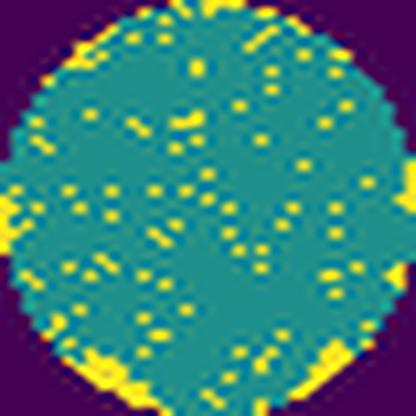Edge-Loc: (58, 342, 180, 415), (283, 336, 360, 400), (0, 191, 34, 257), (390, 154, 415, 226), (382, 261, 410, 295), (194, 0, 253, 15)
